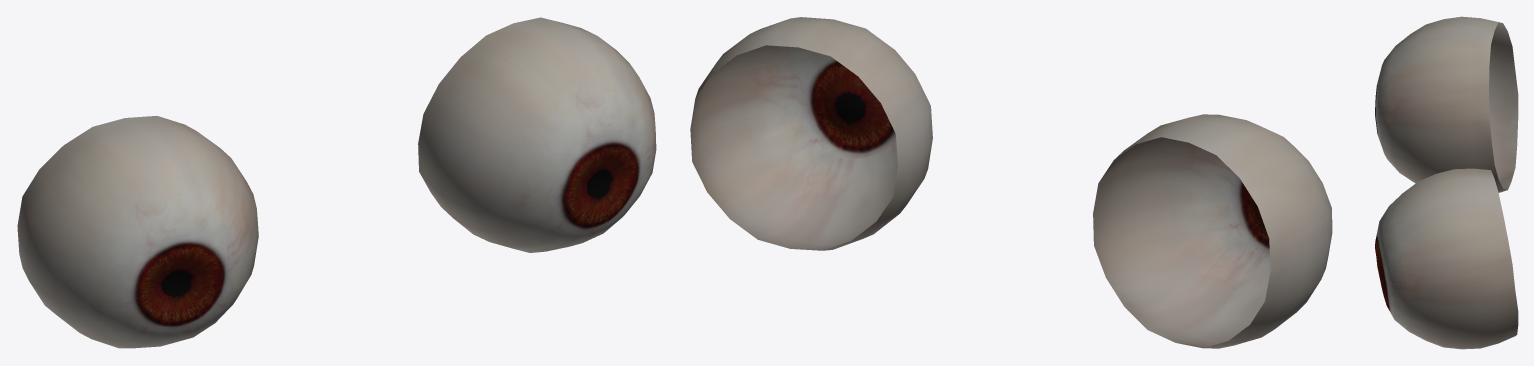
The model's file is eyes.gltf.
3 views of the same model, side by side, from view 1: azimuth 30°, elevation 25°; view 2: azimuth 150°, elevation 25°; view 3: azimuth 270°, elevation 25° (orthographic). The views are drawn at different scales.
Parts seen in each view (by area): view 1: eyes; view 2: eyes; view 3: eyes.
Part boxes in pixels (x1,y1,x2,y2): eyes: [17, 17, 656, 348]; eyes: [690, 17, 1332, 348]; eyes: [1375, 16, 1518, 349].
Size of the model in its own units: 0.0901 by 0.0301 by 0.0256.
Materials: 1 (1 with a texture image).
